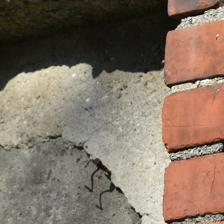Crack: (6, 135, 145, 220)
